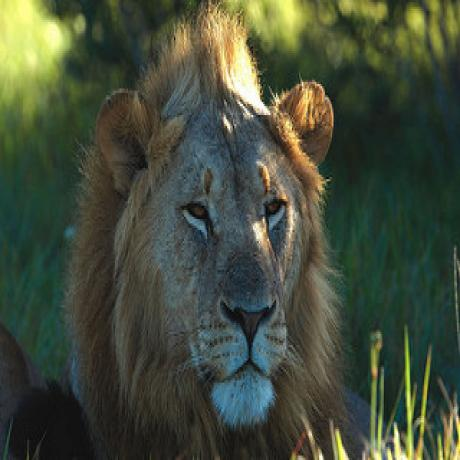Lion: (64, 4, 371, 460)
